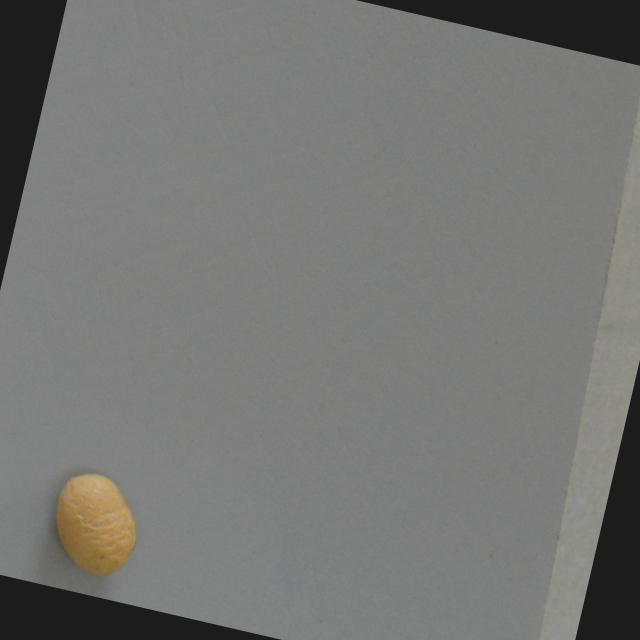cuerpos_extranos: (28, 452, 161, 590)
